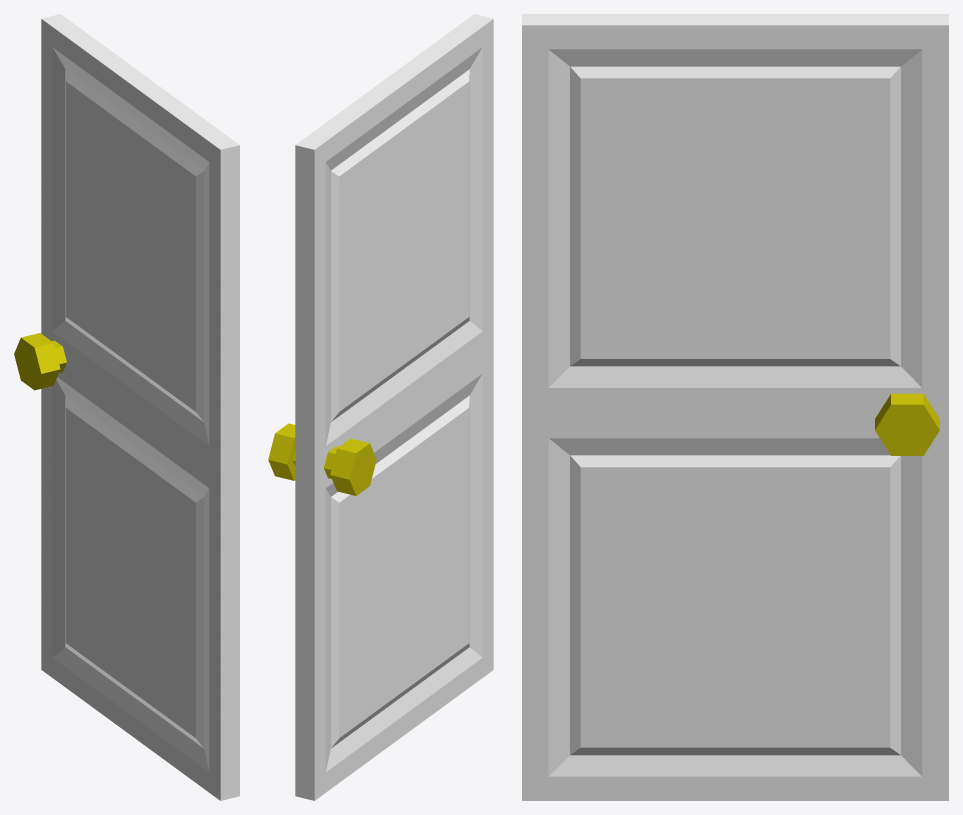
File: Door.glb
3 views of the same model, side by side, from view 1: azimuth 30°, elevation 25°; view 2: azimuth 150°, elevation 25°; view 3: azimuth 270°, elevation 25° (orthographic). The views are drawn at different scales.
Parts seen in each view (by area): view 1: Cube, Circle; view 2: Cube, Circle; view 3: Cube, Circle.
Boxes of the visible parts, bbox=[...] form: Cube: bbox=[41, 14, 239, 800]; Circle: bbox=[14, 333, 66, 390]; Cube: bbox=[295, 14, 493, 800]; Circle: bbox=[268, 423, 376, 495]; Cube: bbox=[522, 14, 948, 800]; Circle: bbox=[875, 393, 939, 455].
Bounding box in the file's own units: 0.524 × 4.01 × 2.
Materials: 2 (2 with a texture image).
